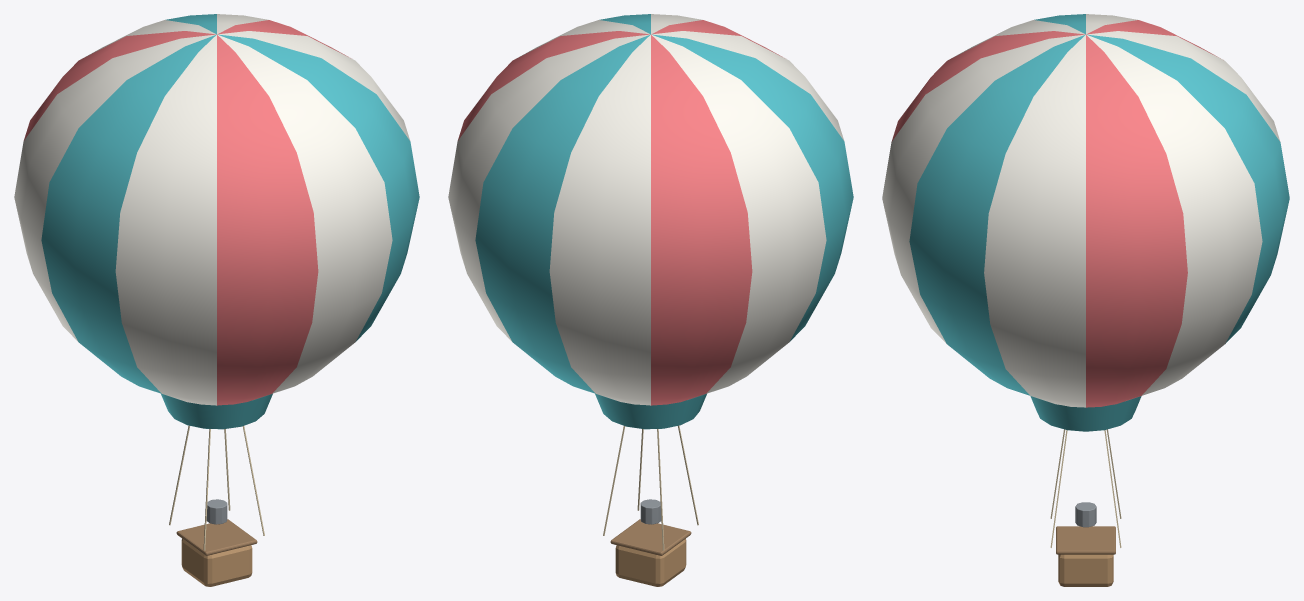
The model's file is balloon.fbx.
3 views of the same model, side by side, from view 1: azimuth 30°, elevation 25°; view 2: azimuth 150°, elevation 25°; view 3: azimuth 270°, elevation 25° (orthographic).
Parts seen in each view (by area): view 1: Visual; view 2: Visual; view 3: Visual.
Boxes of the visible parts, box(x1,y1,x2,y2) form: Visual: box(14, 14, 419, 586); Visual: box(448, 14, 853, 586); Visual: box(882, 14, 1289, 586).
Bounding box in the file's own units: 1320 × 1940 × 1320.
